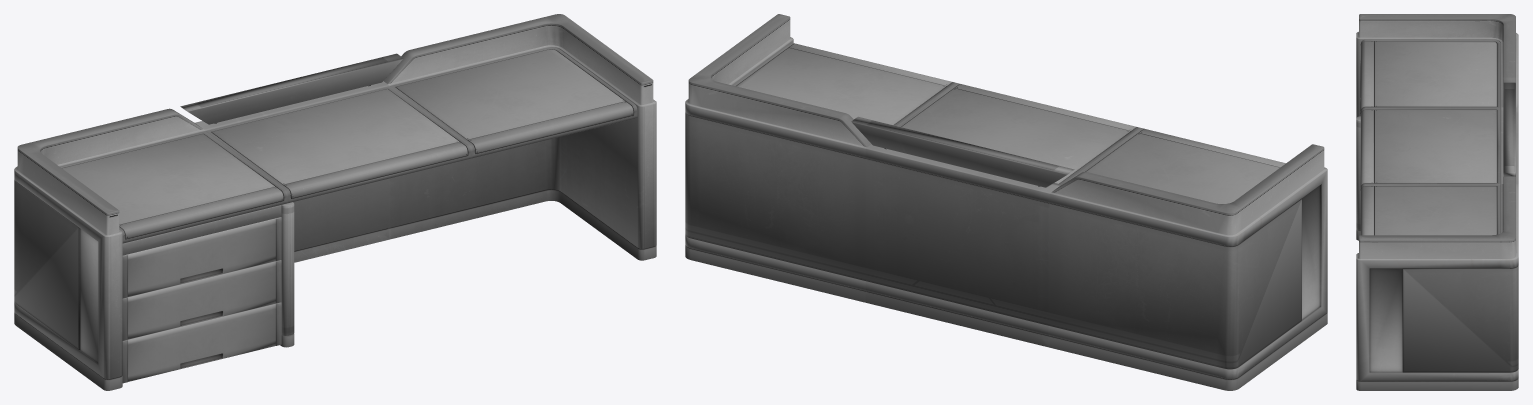
Rendered from Desk0.fbx.
3 views of the same model, side by side, from view 1: azimuth 30°, elevation 25°; view 2: azimuth 150°, elevation 25°; view 3: azimuth 270°, elevation 25° (orthographic). The views are drawn at different scales.
Parts seen in each view (by area): view 1: SM_Desk_A_v1; view 2: SM_Desk_A_v1; view 3: SM_Desk_A_v1.
Boxes of the visible parts, left/top/right/bottom form: SM_Desk_A_v1: left=14, top=14, right=656, bottom=390; SM_Desk_A_v1: left=685, top=14, right=1327, bottom=390; SM_Desk_A_v1: left=1356, top=14, right=1518, bottom=390.
Size of the model in its own units: 300 by 91.37 by 90.
